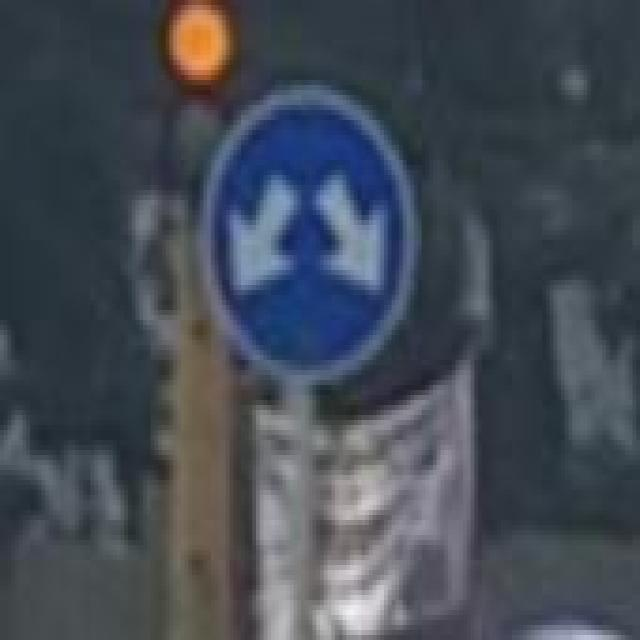traffic sign: (203, 85, 418, 400)
